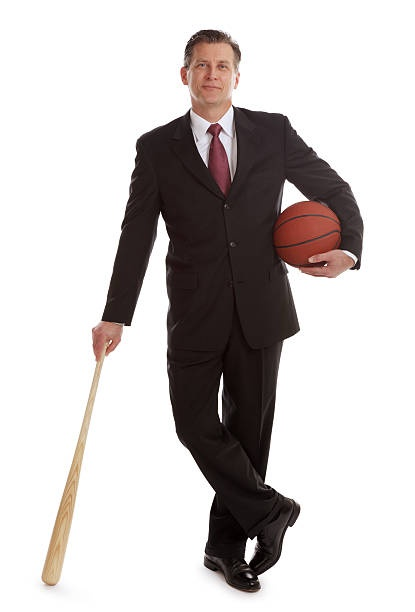bita: (39, 316, 122, 587)
